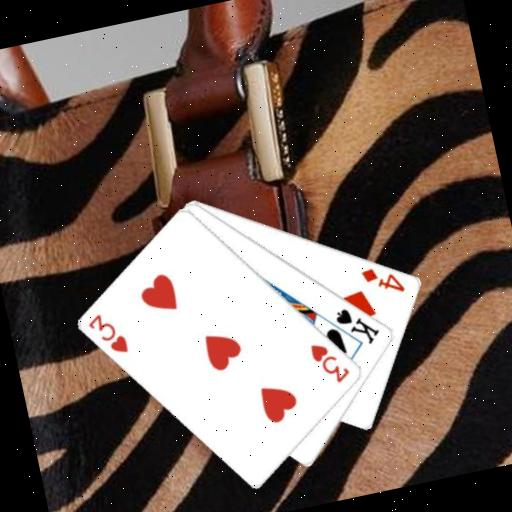3H: (306, 335, 354, 390), (83, 306, 131, 361)
4D: (357, 257, 408, 301)
KS: (331, 299, 384, 352)
